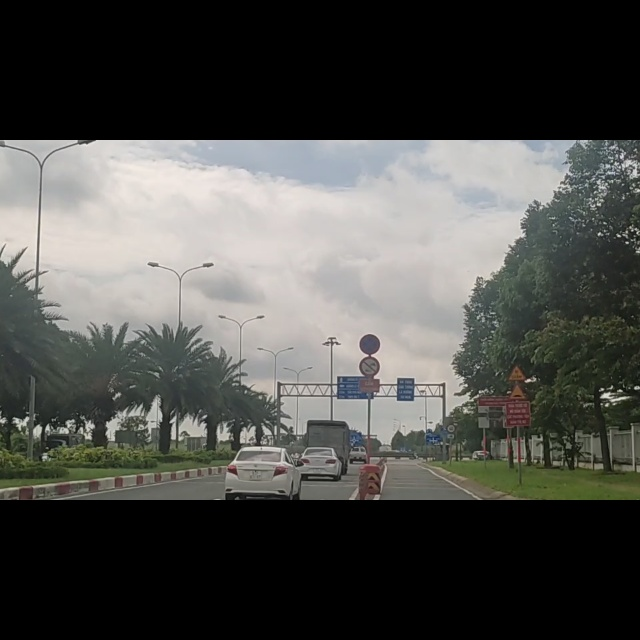bien_chi_dan: (359, 383, 379, 422), (358, 346, 380, 379), (508, 397, 528, 429), (509, 431, 527, 463)
